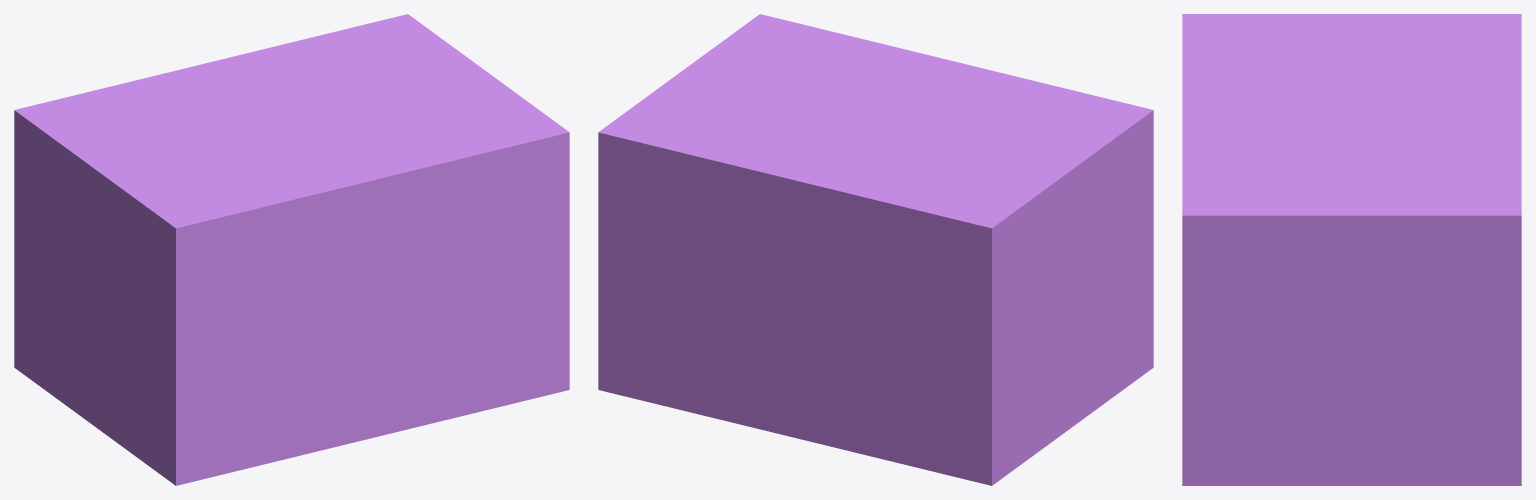
The model's file is parcelSPXMY0091.glb.
3 views of the same model, side by side, from view 1: azimuth 30°, elevation 25°; view 2: azimuth 150°, elevation 25°; view 3: azimuth 270°, elevation 25° (orthographic). The views are drawn at different scales.
Visible parts, largest first — view 1: color; view 2: color; view 3: color.
Part boxes in pixels (x1=…): color: x1=14, y1=14, x2=569, y2=485; color: x1=598, y1=14, x2=1153, y2=485; color: x1=1182, y1=14, x2=1521, y2=485.
Size of the model in its own units: 1.04 by 0.65 by 0.74.
